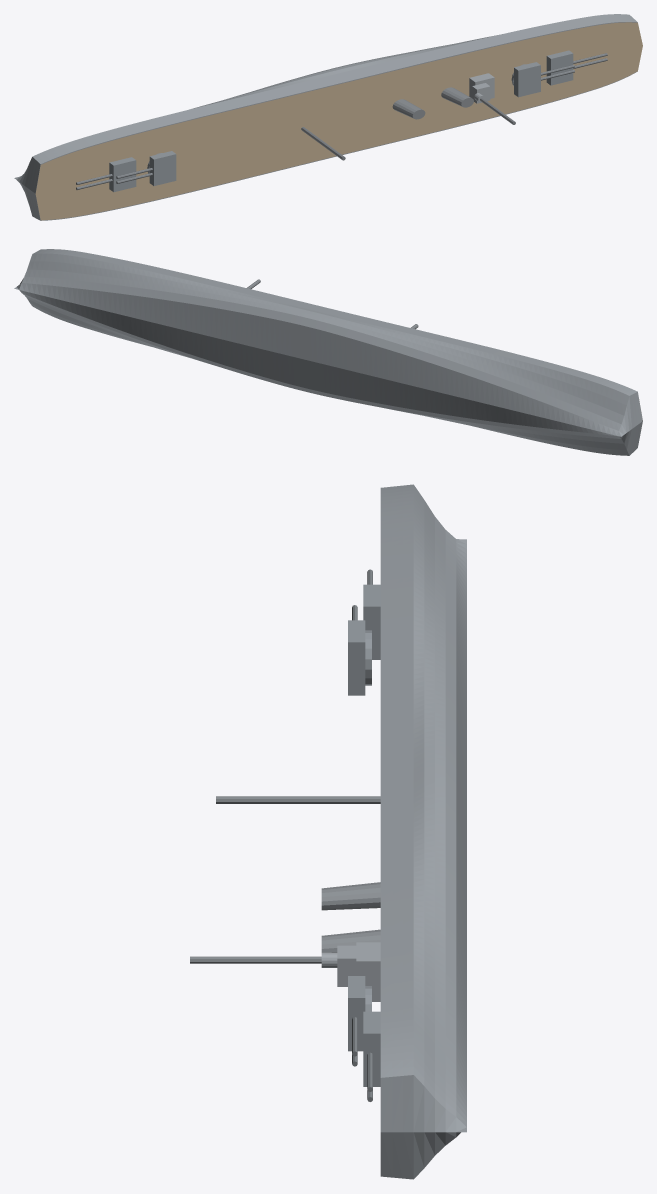
3 views of the same model, one above another, from view 1: azimuth 30°, elevation 25°; view 2: azimuth 150°, elevation 25°; view 3: azimuth 270°, elevation 25° (orthographic). The views are drawn at different scales.
Parts seen in each view (by area): view 1: B62; view 2: B62; view 3: B62.
Boxes of the visible parts, x1,y1,x2,y2 form: B62: (14,14,642,220); B62: (14,249,642,455); B62: (190,484,466,1179).
Size of the model in its own units: 251 by 31.2 by 49.62.
